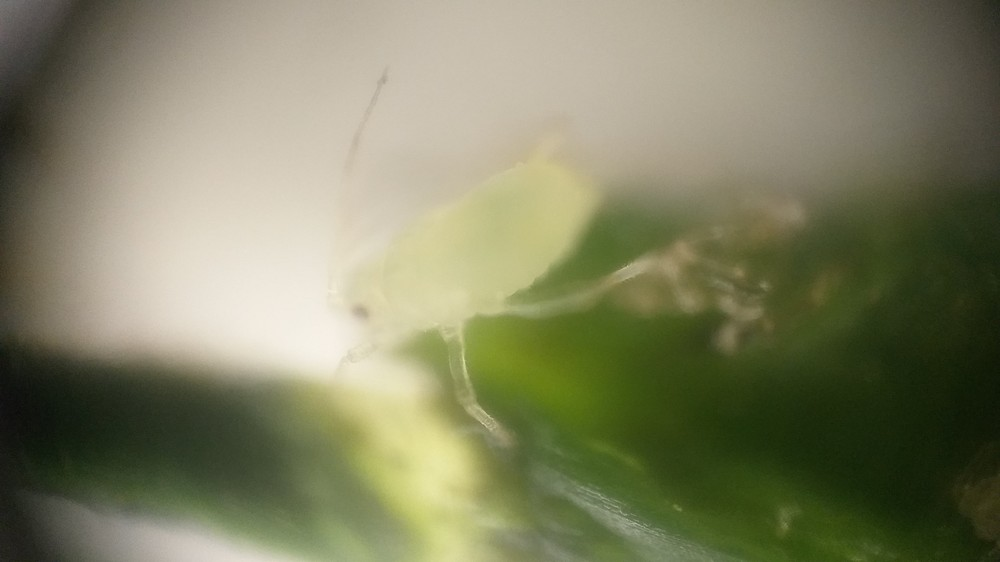Pulgon: (281, 97, 768, 446)
